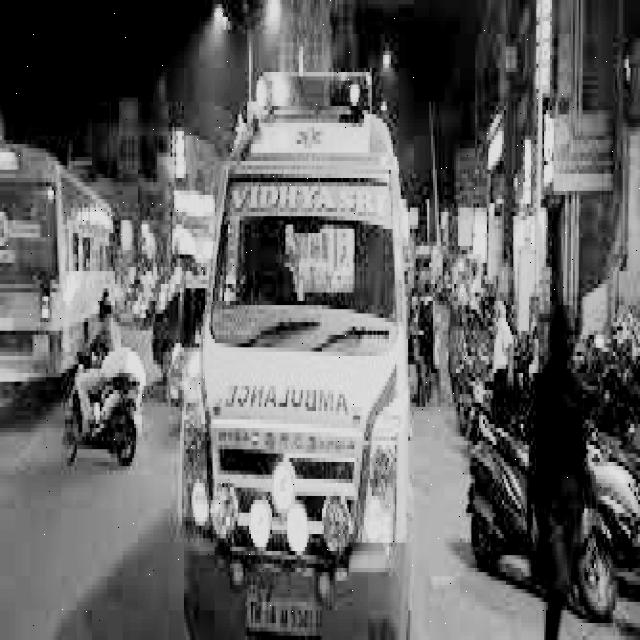Ambulance: (179, 51, 425, 640), (240, 49, 385, 163), (226, 369, 358, 428)
